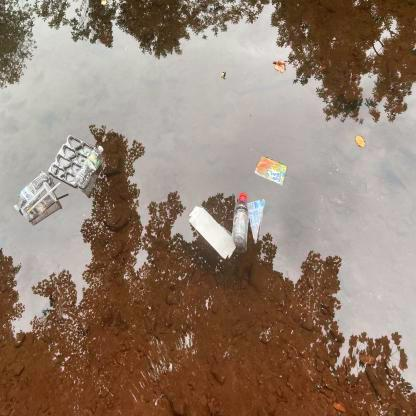Plastic: (51, 132, 105, 188), (11, 169, 64, 222), (229, 188, 254, 248), (244, 196, 271, 248)
Trash: (186, 202, 239, 265)
